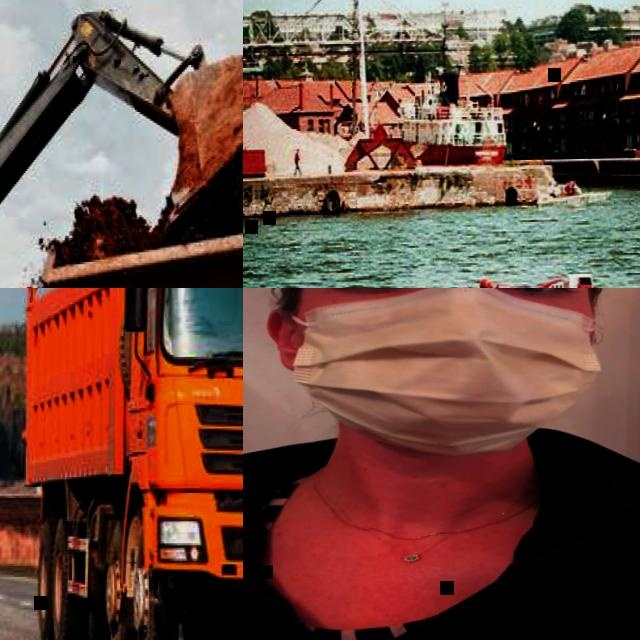Hardhat: (477, 278, 492, 288)
Mask: (293, 291, 604, 457)
NO-Safety Vest: (243, 467, 640, 640), (292, 148, 302, 176), (294, 152, 298, 164)
Person: (243, 288, 640, 640), (478, 279, 494, 288)
machinery: (17, 288, 243, 640), (0, 0, 243, 288), (36, 181, 243, 288)
